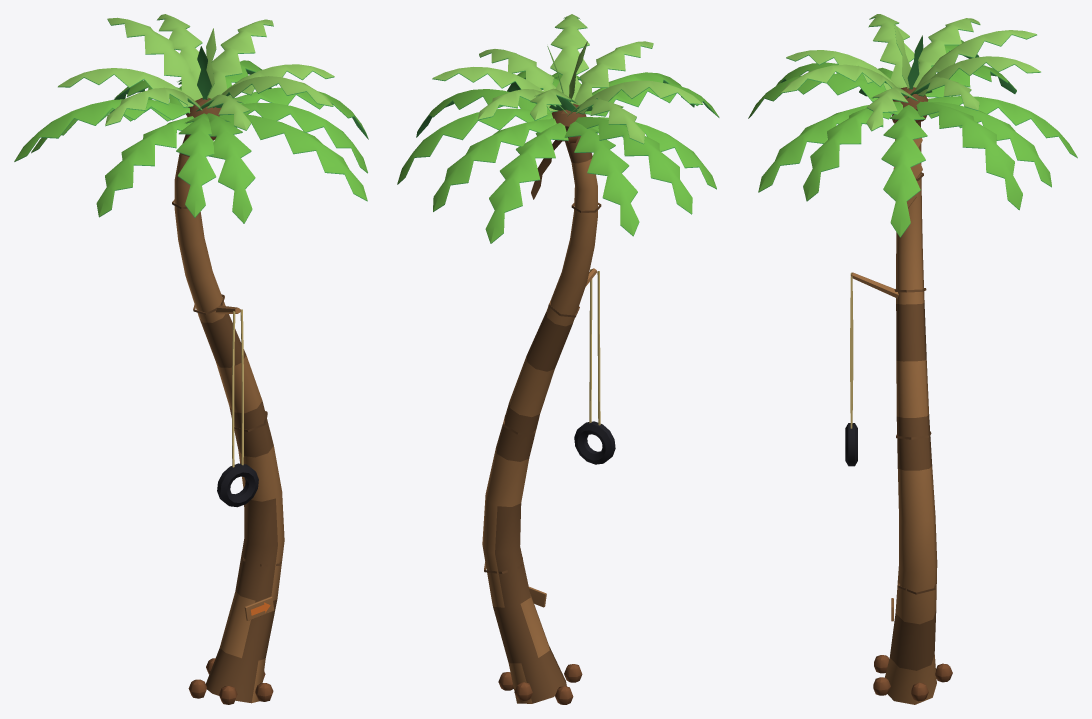
Rendered from PalmeraGigante.fbx.
The picture shows the model from 3 angles, left to right: view 1: azimuth 30°, elevation 25°; view 2: azimuth 150°, elevation 25°; view 3: azimuth 270°, elevation 25°; orthographic projection. The views are drawn at different scales.
Parts seen in each view (by area): view 1: PalmeraGigante; view 2: PalmeraGigante; view 3: PalmeraGigante.
Part boxes in pixels (x1,y1,x2,y2): PalmeraGigante: (14, 14, 368, 704); PalmeraGigante: (397, 14, 719, 704); PalmeraGigante: (748, 14, 1077, 704).
Bounding box in the file's own units: 20.88 × 42.35 × 19.38.
Materials: 1 (1 with a texture image).
